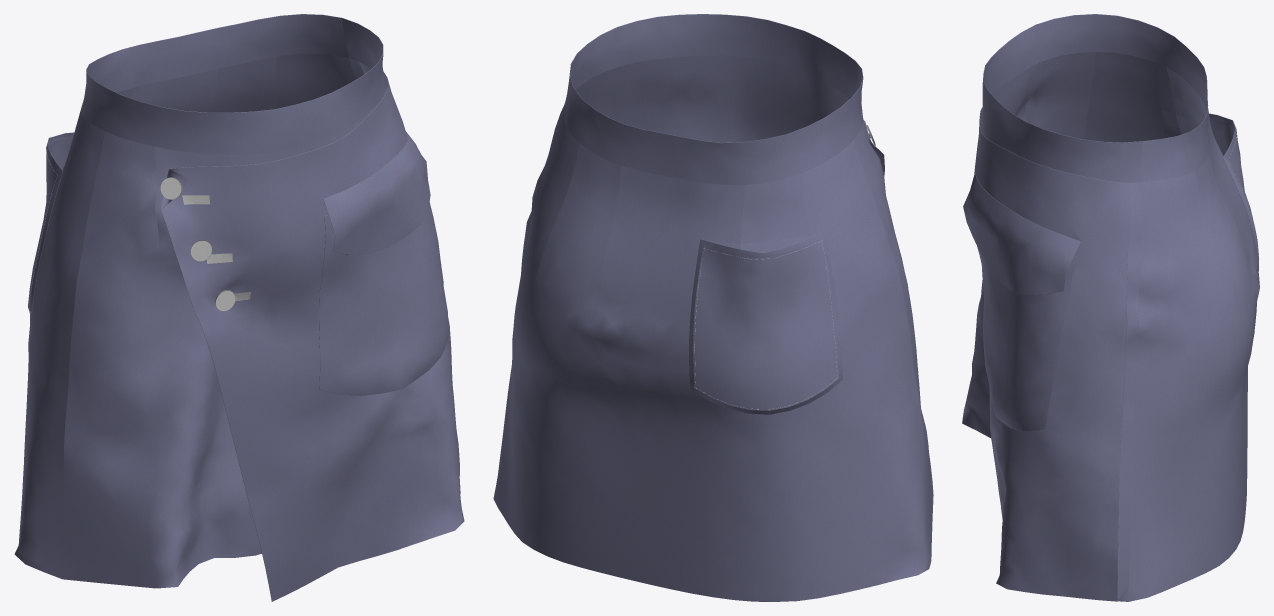
3 renders of one model, left to right at view 1: azimuth 30°, elevation 25°; view 2: azimuth 150°, elevation 25°; view 3: azimuth 270°, elevation 25°, orthographic. The views are drawn at different scales.
Visible parts, largest first — view 1: Pattern2D_447218, Pattern2D_50967, Pattern2D_215201, SKIRT1WAB, Pattern2D_447219, Pattern2D_447220, Pattern2D_447221; view 2: Pattern2D_215201, SKIRT1WAB, Pattern2D_447221, Pattern2D_50967; view 3: Pattern2D_215201, Pattern2D_447218, SKIRT1WAB, Pattern2D_50967, Pattern2D_447219, Pattern2D_447220, Pattern2D_447221.
Boxes of the visible parts, left/top/right/bottom form: Pattern2D_447218: left=161, top=71, right=464, bottom=601; Pattern2D_50967: left=62, top=58, right=386, bottom=588; Pattern2D_215201: left=14, top=53, right=355, bottom=578; SKIRT1WAB: left=81, top=14, right=385, bottom=154; Pattern2D_447219: left=319, top=202, right=449, bottom=395; Pattern2D_447220: left=323, top=132, right=430, bottom=254; Pattern2D_447221: left=28, top=132, right=74, bottom=313; Pattern2D_215201: left=493, top=103, right=931, bottom=601; SKIRT1WAB: left=563, top=14, right=863, bottom=185; Pattern2D_447221: left=689, top=231, right=842, bottom=414; Pattern2D_50967: left=527, top=55, right=933, bottom=552; Pattern2D_215201: left=1083, top=52, right=1259, bottom=601; Pattern2D_447218: left=974, top=107, right=1129, bottom=601; SKIRT1WAB: left=982, top=14, right=1209, bottom=182; Pattern2D_50967: left=962, top=52, right=1142, bottom=601; Pattern2D_447219: left=977, top=246, right=1076, bottom=430; Pattern2D_447220: left=963, top=173, right=1080, bottom=294; Pattern2D_447221: left=1209, top=113, right=1258, bottom=270.
Size of the model in its own units: 44.01 by 49.96 by 28.88.
